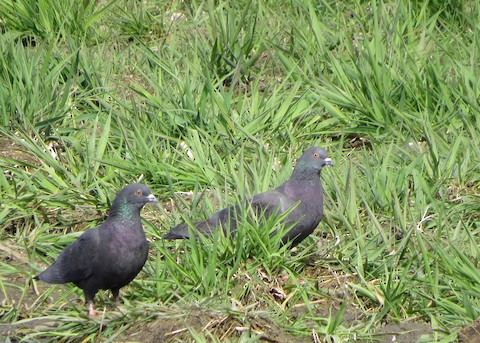pigeon: (161, 140, 338, 277), (29, 180, 162, 320)
